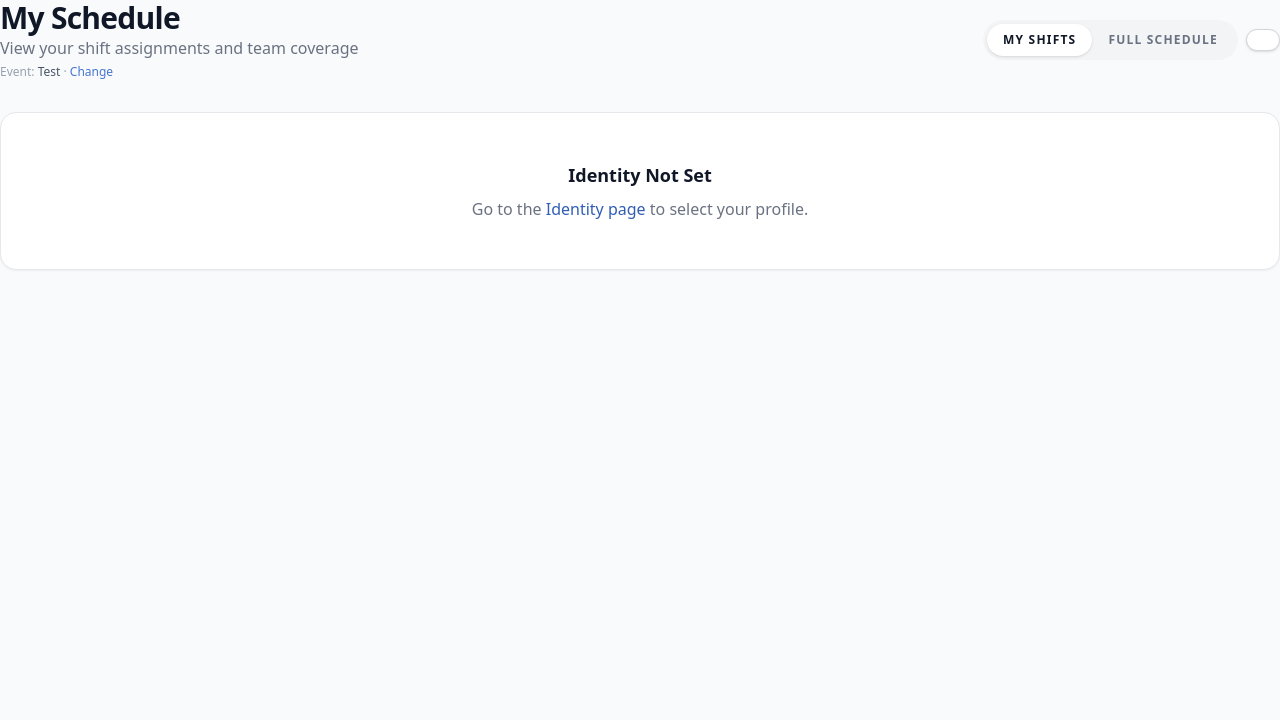
Test: UserCalendarPage – PNG export › Export button appears after switching to Full Schedule view
This screenshot has width=1280, height=720.
Click the button "Full Schedule". click: (1163, 40)
box: [1092,24,1234,56]
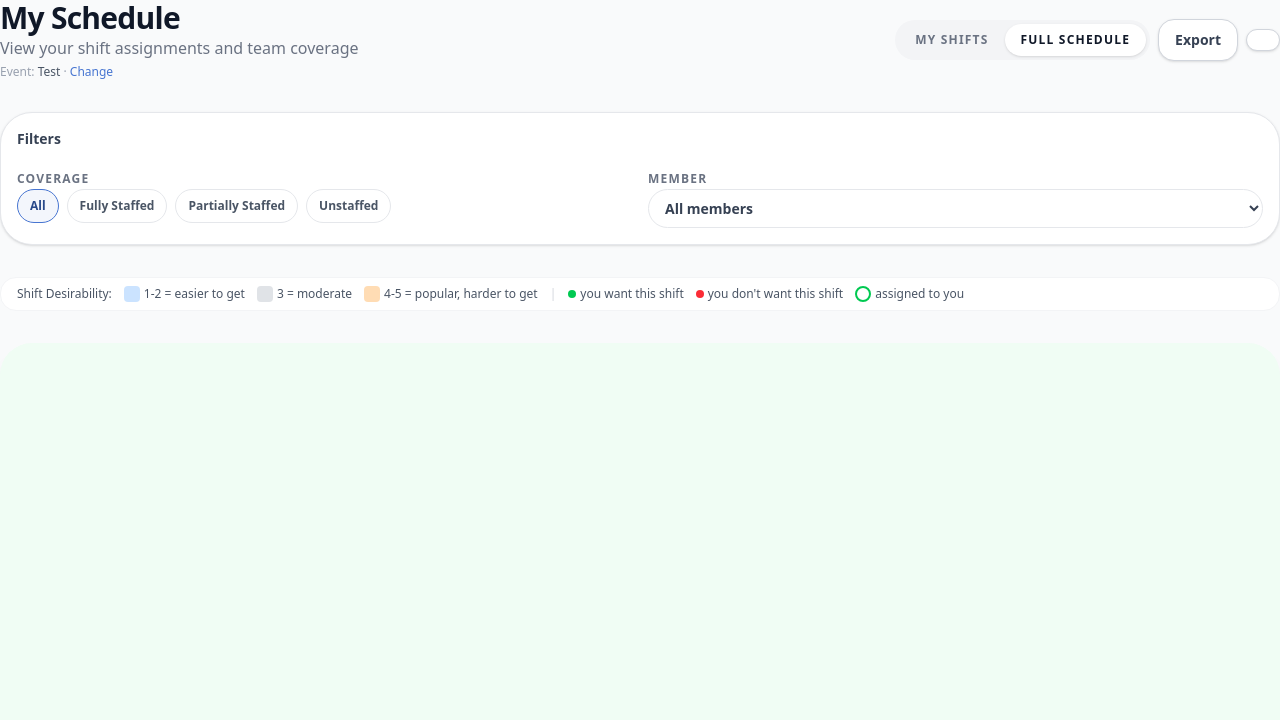
Expected: the button "Export" is shown, [1158,19,1238,61]
